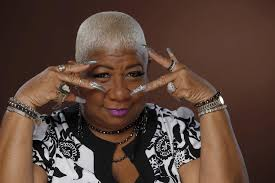black_female: (81, 22, 152, 129)
